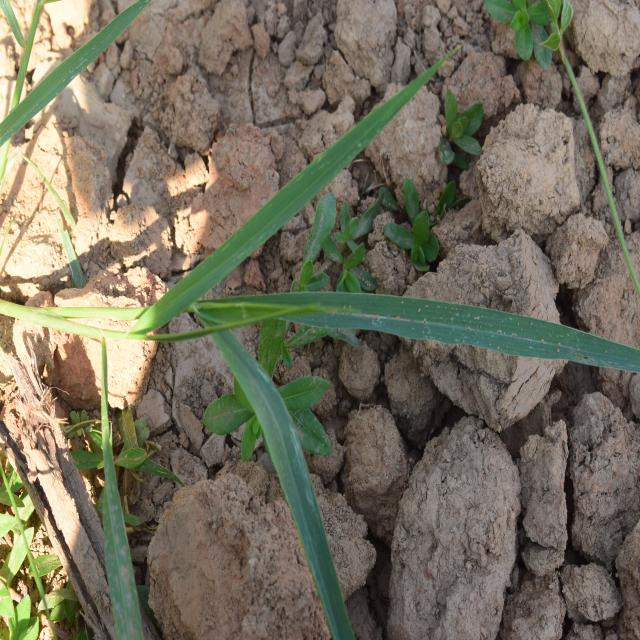green_foxtail: (80, 101, 538, 527)
